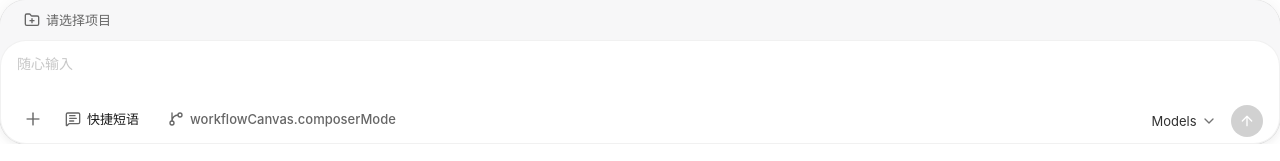
it: ChatInput composer › ignores the projects table when runtime work is empty
What coordinates should you click on to do the following:
click the button with test id "project-work-button"
I would click on:
 (68, 20)
Its box is x1=16 y1=4 x2=119 y2=36.
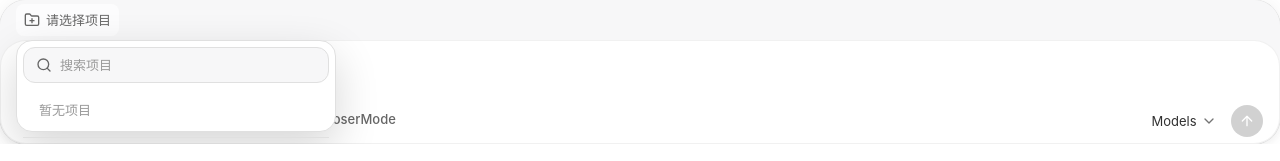
Expected: the text "暂无项目" is shown, x1=39 y1=102 x2=91 y2=118
